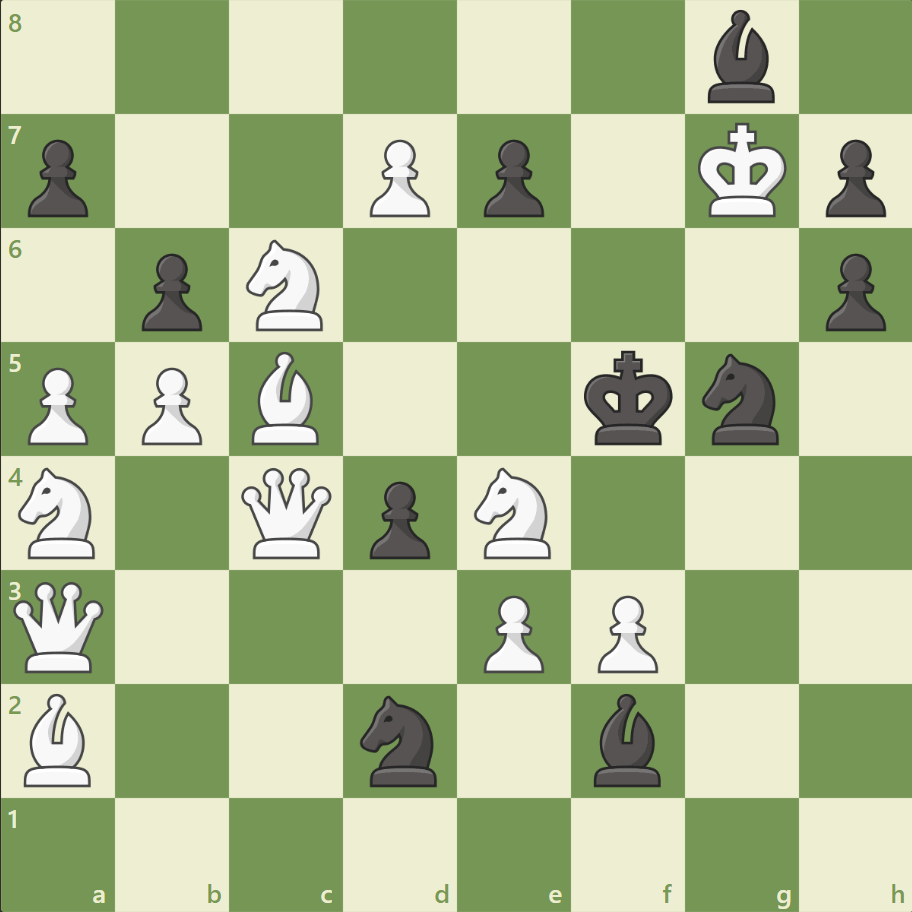B: (17, 687, 101, 790), (244, 347, 328, 449)
K: (692, 117, 792, 225)
N: (238, 234, 335, 337), (11, 461, 108, 564), (465, 461, 562, 564)
P: (20, 359, 95, 450), (133, 359, 208, 450), (474, 586, 549, 677), (361, 132, 435, 223), (588, 586, 662, 677)
Q: (10, 576, 109, 676), (237, 463, 336, 562)
b: (698, 6, 782, 109), (585, 687, 669, 790)
k: (579, 344, 679, 452)
n: (351, 688, 449, 791), (692, 348, 789, 450)
p: (20, 132, 95, 223), (474, 132, 549, 223), (133, 246, 208, 337), (815, 132, 889, 223), (815, 246, 889, 337), (361, 473, 435, 564)
